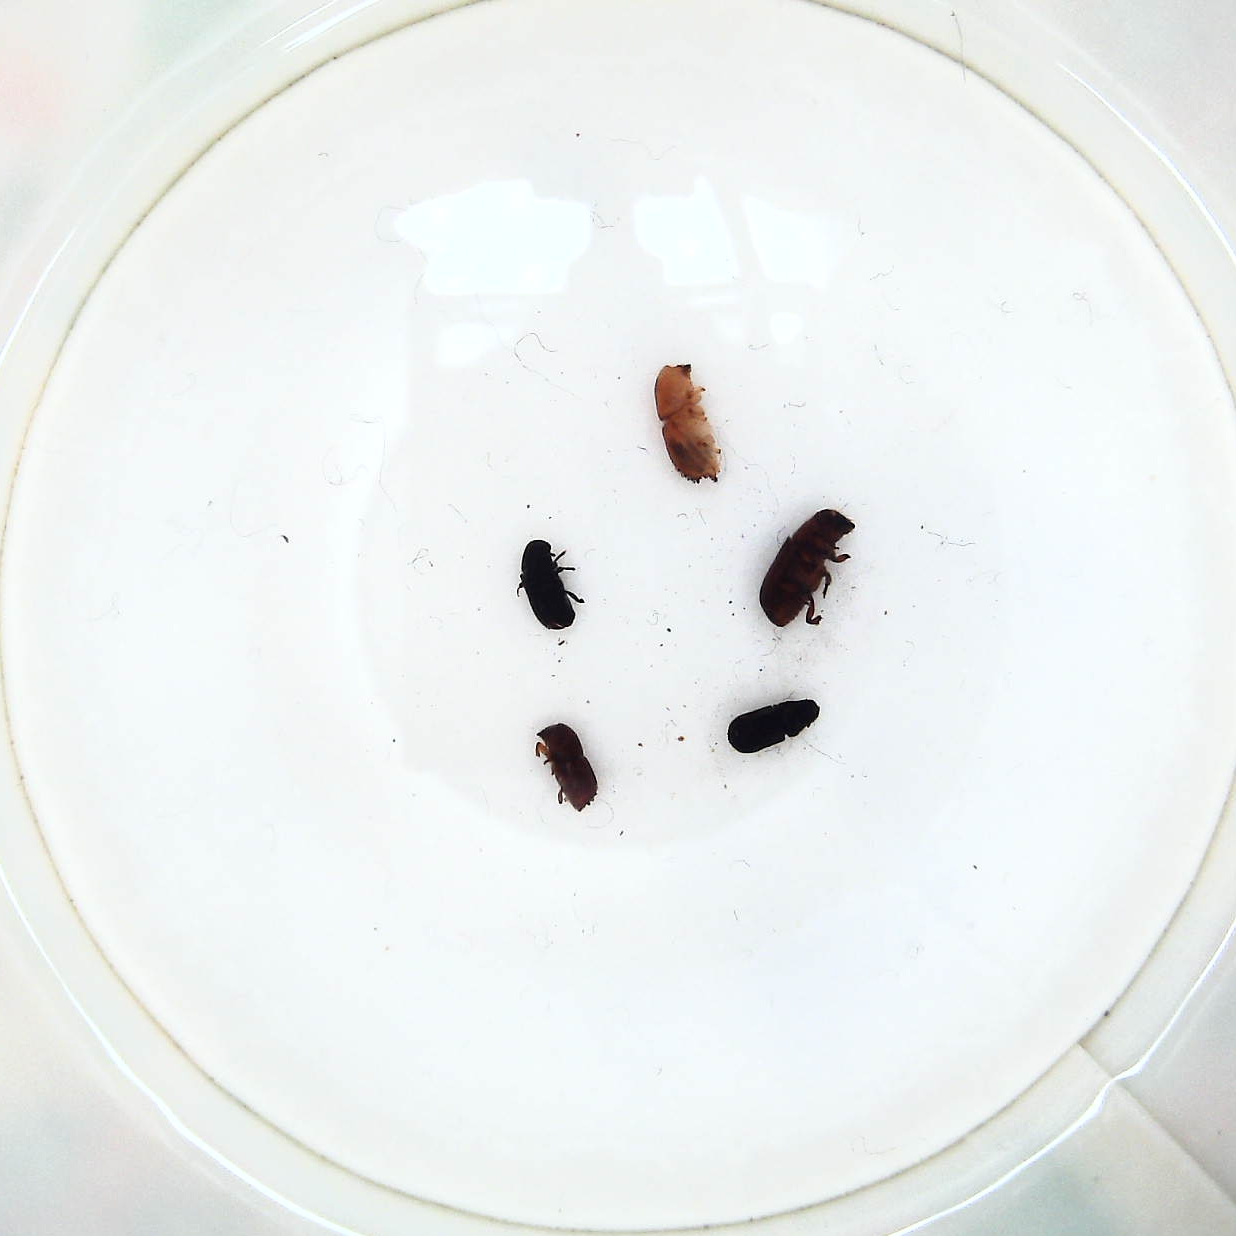Boerner: (651, 359, 726, 488)
Leconte: (756, 500, 861, 637)
armandi: (517, 532, 587, 635), (722, 698, 822, 756)
linnaeus: (526, 716, 602, 819)
